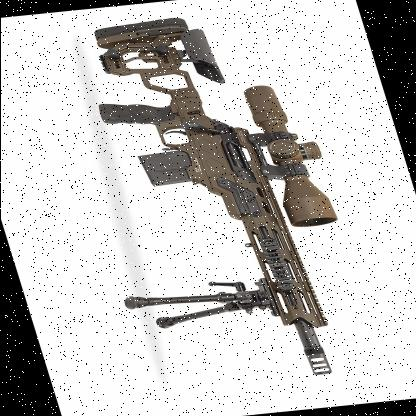rifle: (85, 0, 386, 414)
